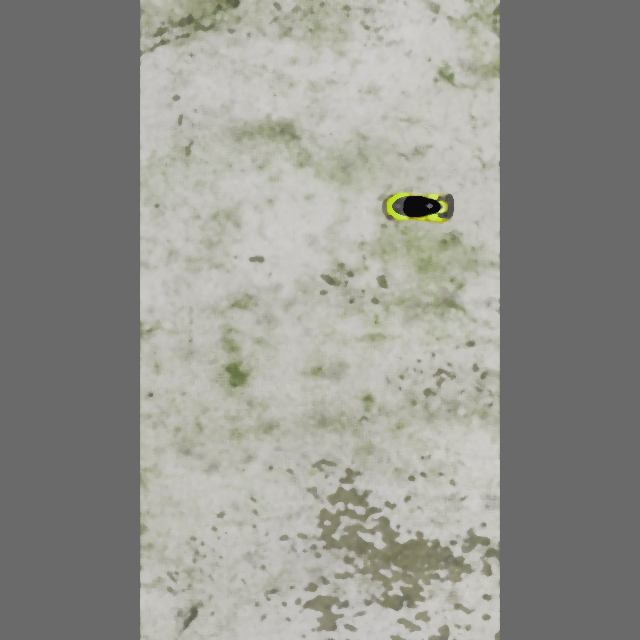car: (384, 189, 454, 224)
